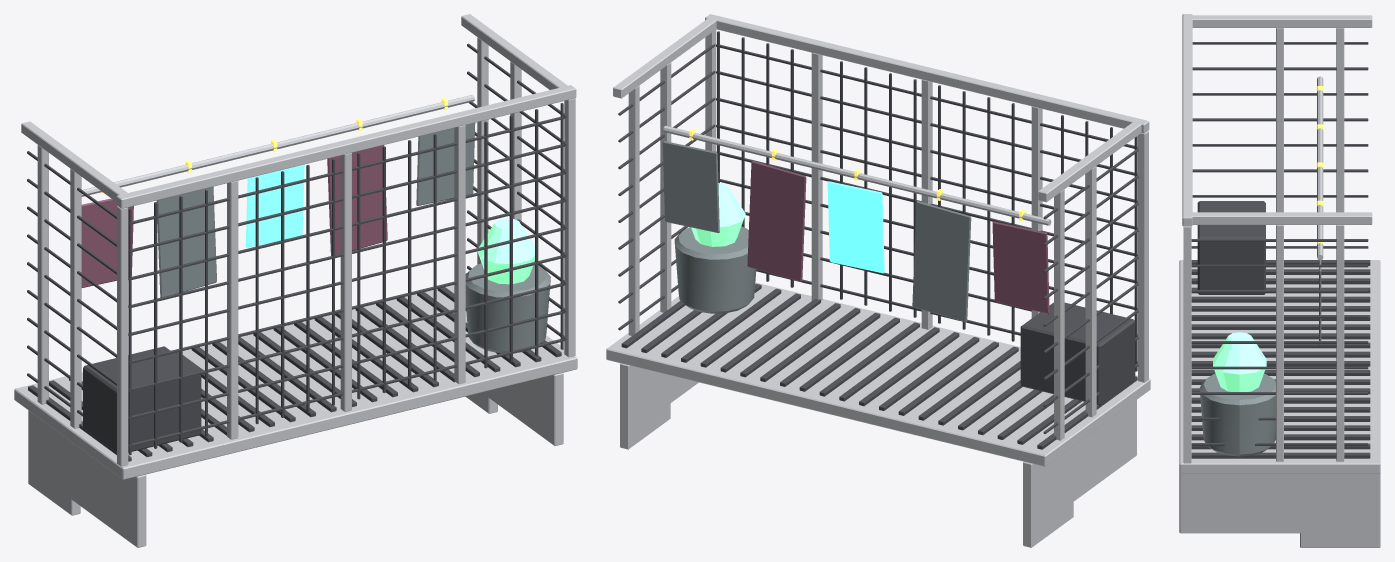
Rendered from cyberpunk-apartment-and-neon-block-balcony-cage-with-d-233d2623__37841.glb.
The picture shows the model from 3 angles, left to right: view 1: azimuth 30°, elevation 25°; view 2: azimuth 150°, elevation 25°; view 3: azimuth 270°, elevation 25°; orthographic projection. The views are drawn at different scales.
Parts seen in each view (by area): view 1: balcony-cage-with-drying-rail; view 2: balcony-cage-with-drying-rail; view 3: balcony-cage-with-drying-rail.
Part boxes in pixels (bbox=[...]): balcony-cage-with-drying-rail: bbox=[14, 14, 577, 547]; balcony-cage-with-drying-rail: bbox=[606, 14, 1150, 547]; balcony-cage-with-drying-rail: bbox=[1179, 14, 1380, 547].
Bounding box in the file's own units: 2.4 × 1.85 × 1.
